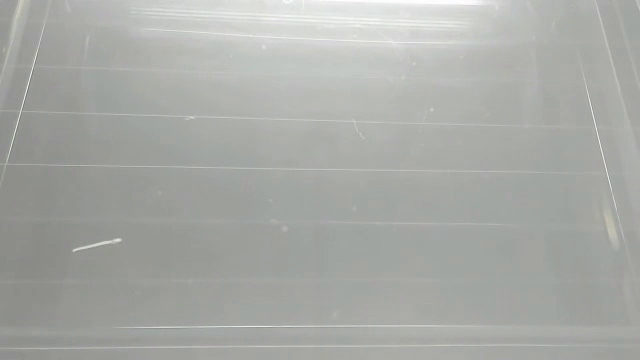alpha: (69, 236, 124, 257)
